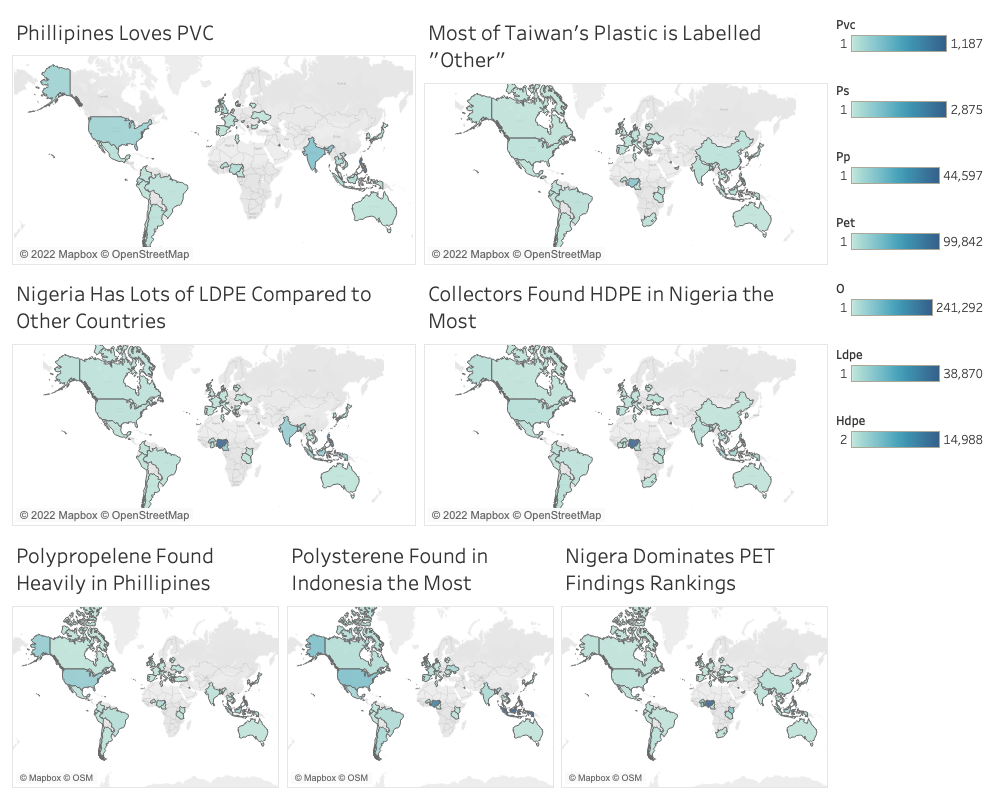

This screenshot's page, from the dashboard's own definition file:
{"tool":"tableau","page":{"name":"Dashboard 1","canvas":[1000,800],"ordinal":0},"visuals":[{"type":"worksheet","title":"PVC","mark":"Automatic","box":[8,8,412,261.3]},{"type":"worksheet","title":"Other","mark":"Automatic","box":[420,8,412,261.3]},{"type":"legend","title":"PVC","param":"[federated.0bekhf81d466km1bd868x01l75tm].[sum:pvc:qk]","box":[832,8,160,65]},{"type":"legend","title":"PS","param":"[federated.0bekhf81d466km1bd868x01l75tm].[sum:ps:qk]","box":[832,73,160,65]},{"type":"legend","title":"PP","param":"[federated.0bekhf81d466km1bd868x01l75tm].[sum:pp:qk]","box":[832,138,160,65]},{"type":"legend","title":"PET","param":"[federated.0bekhf81d466km1bd868x01l75tm].[sum:pet:qk]","box":[832,203,160,65]},{"type":"legend","title":"Other","param":"[federated.0bekhf81d466km1bd868x01l75tm].[sum:o:qk]","box":[832,268,160,65]},{"type":"worksheet","title":"LDPE","mark":"Automatic","box":[8,269.3,412,261.3]},{"type":"worksheet","title":"HDPE","mark":"Automatic","box":[420,269.3,412,261.3]},{"type":"legend","title":"LDPE","param":"[federated.0bekhf81d466km1bd868x01l75tm].[sum:ldpe:qk]","box":[832,333,160,65]},{"type":"legend","title":"HDPE","param":"[federated.0bekhf81d466km1bd868x01l75tm].[sum:hdpe:qk]","box":[832,398,160,65]},{"type":"worksheet","title":"PP","mark":"Automatic","box":[8,530.7,274.7,261.3]},{"type":"worksheet","title":"PS","mark":"Automatic","box":[282.7,530.7,274.7,261.3]},{"type":"worksheet","title":"PET","mark":"Automatic","box":[557.3,530.7,274.7,261.3]}]}

Visuals, with their boxes in screenshot pixels (x1, y1, x2, y2), scaled from the page's 1000x800 canvas onto the 1000x800 screenshot:
"PVC" worksheet: locate(8, 8, 420, 269)
"Other" worksheet: locate(420, 8, 832, 269)
"PVC" legend: locate(832, 8, 992, 73)
"PS" legend: locate(832, 73, 992, 138)
"PP" legend: locate(832, 138, 992, 203)
"PET" legend: locate(832, 203, 992, 268)
"Other" legend: locate(832, 268, 992, 333)
"LDPE" worksheet: locate(8, 269, 420, 531)
"HDPE" worksheet: locate(420, 269, 832, 531)
"LDPE" legend: locate(832, 333, 992, 398)
"HDPE" legend: locate(832, 398, 992, 463)
"PP" worksheet: locate(8, 531, 283, 792)
"PS" worksheet: locate(283, 531, 557, 792)
"PET" worksheet: locate(557, 531, 832, 792)
